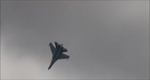maybay_muctieu: (47, 39, 70, 71)
